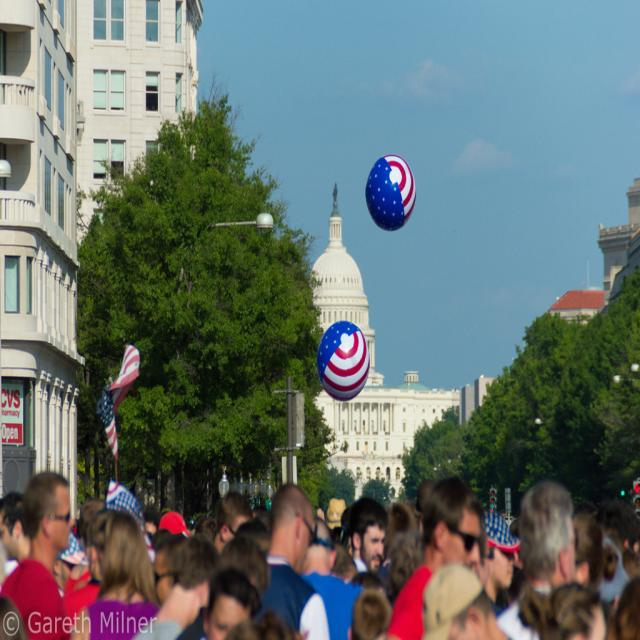Ball: (318, 322, 369, 402), (365, 152, 417, 228)
